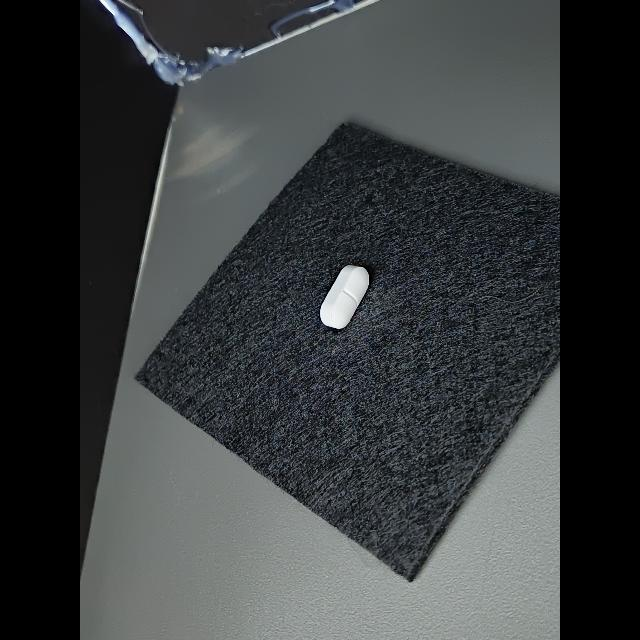Intact Pill: (320, 265, 369, 329)
